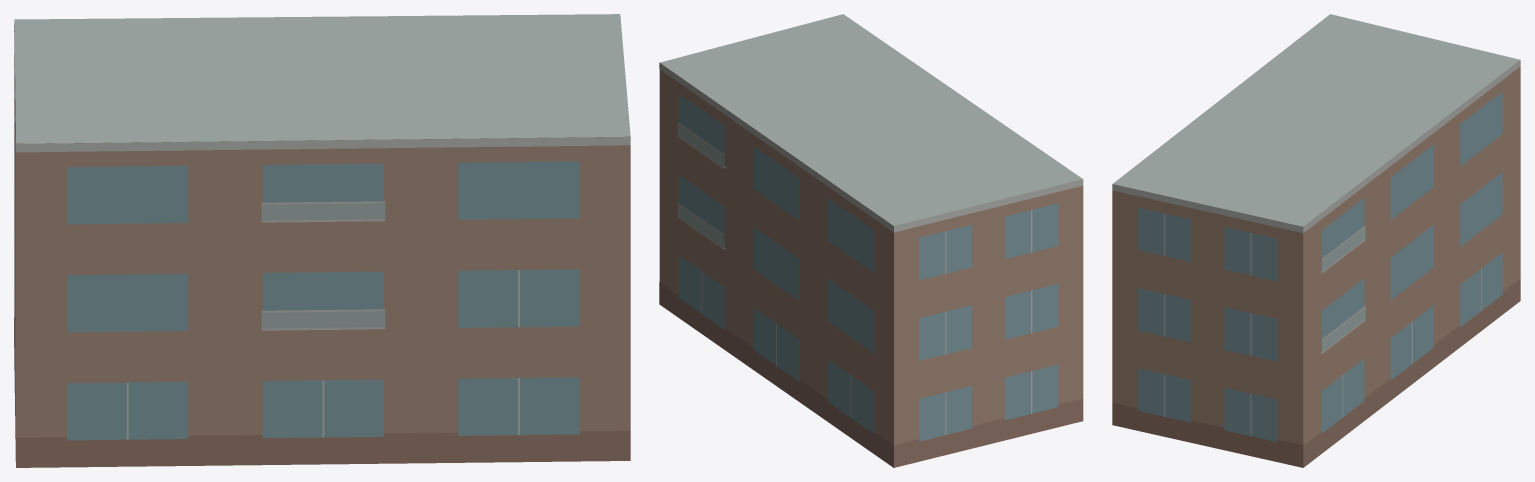
Rendered from survey-upis-32889200.glb.
3 renders of one model, left to right at view 1: azimuth 30°, elevation 25°; view 2: azimuth 150°, elevation 25°; view 3: azimuth 270°, elevation 25°, orthographic. The views are drawn at different scales.
Visible parts, largest first — view 1: survey-upis-32889200.tmp; view 2: survey-upis-32889200.tmp; view 3: survey-upis-32889200.tmp.
Part boxes in pixels (bbox=[...]): survey-upis-32889200.tmp: bbox=[14, 14, 630, 467]; survey-upis-32889200.tmp: bbox=[659, 14, 1083, 467]; survey-upis-32889200.tmp: bbox=[1112, 14, 1520, 467].
Size of the model in its own units: 17.33 by 9.15 by 14.05.
